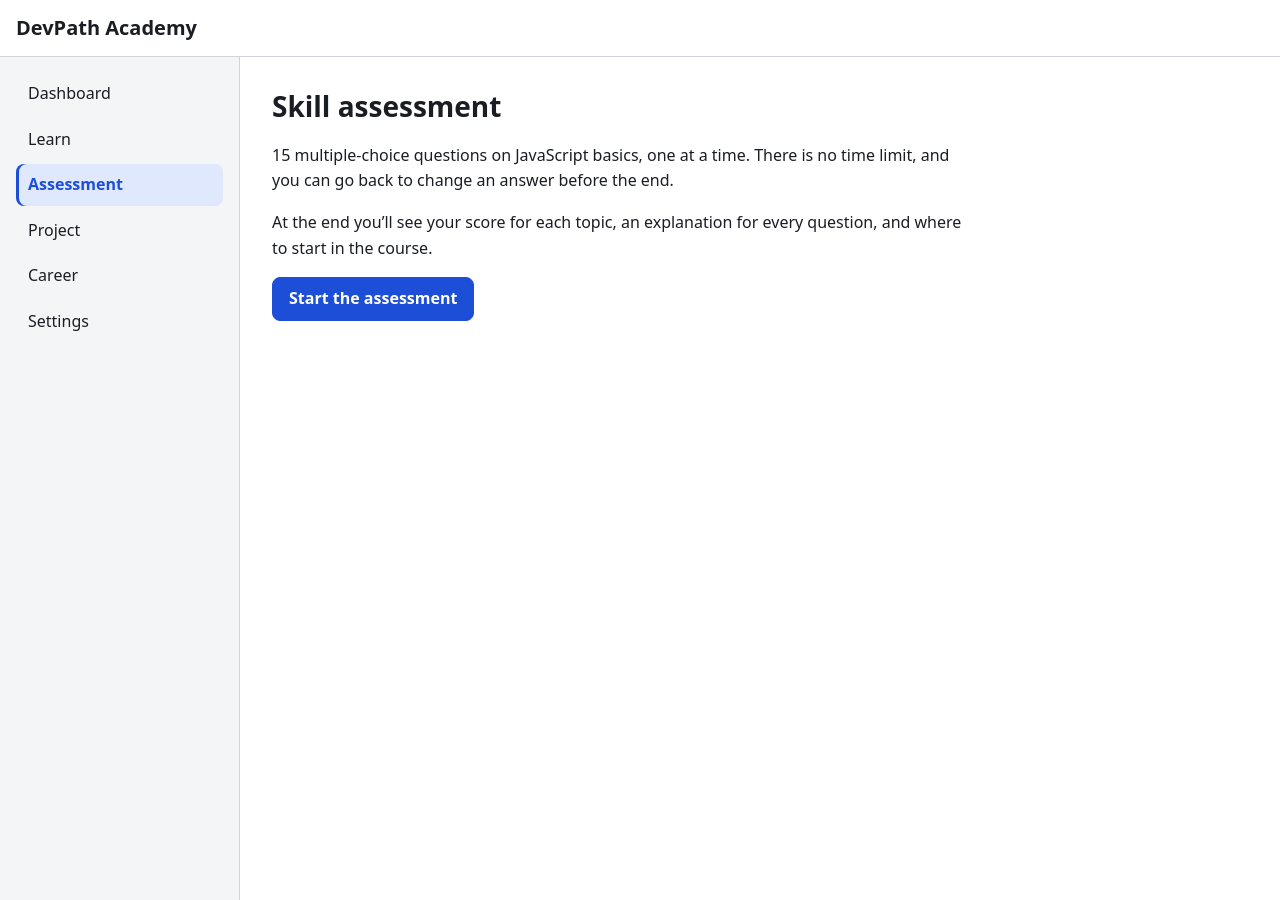
Scenario: skill assessment (/assessment) › goes back to the previous question with its answer still chosen
The image size is (1280, 900).
Step 1. Click the button "Start the assessment" → (373, 299), box left=272, top=277, right=474, bottom=321
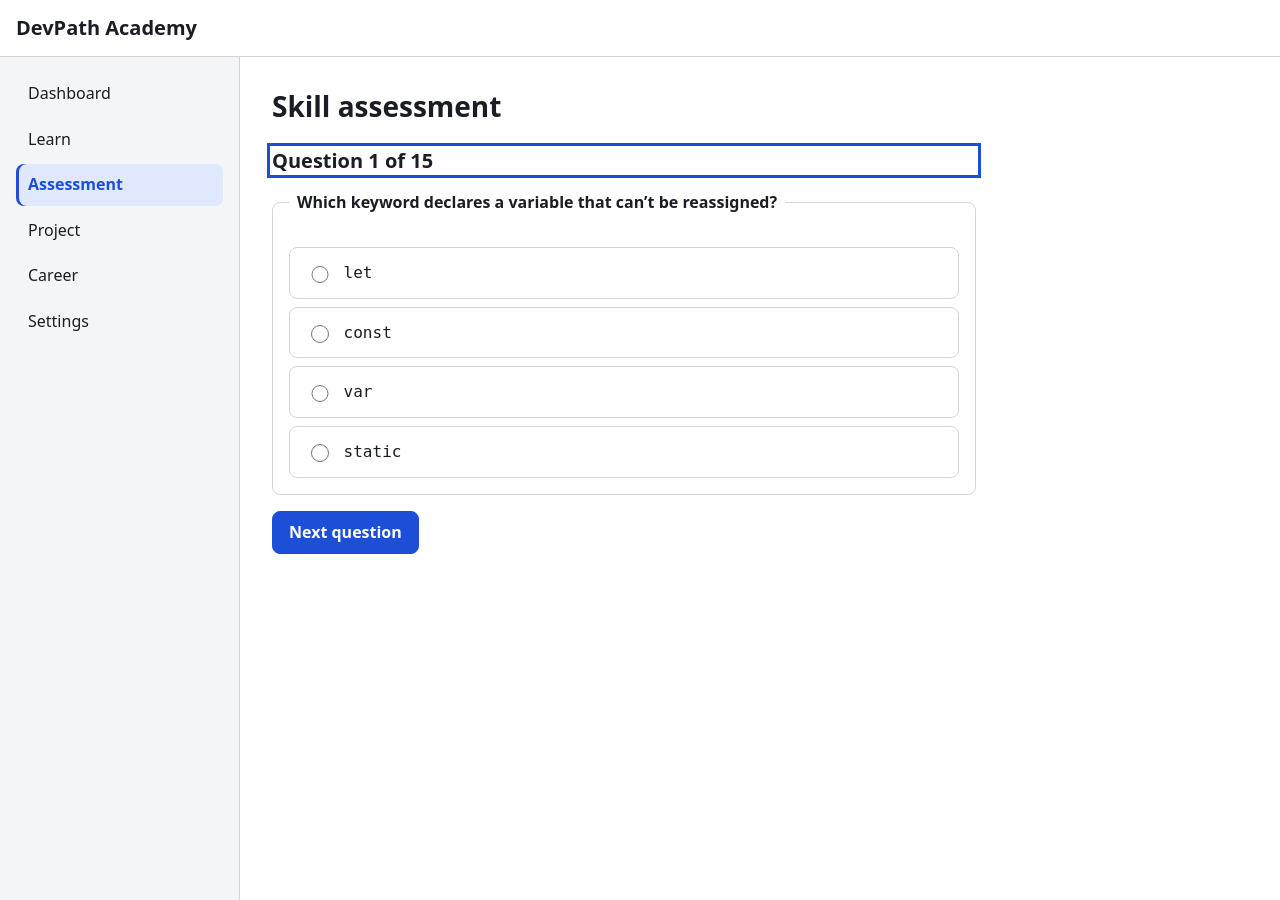
Step 2. Click the radio button labelled "var" → (320, 394), box left=311, top=385, right=329, bottom=402
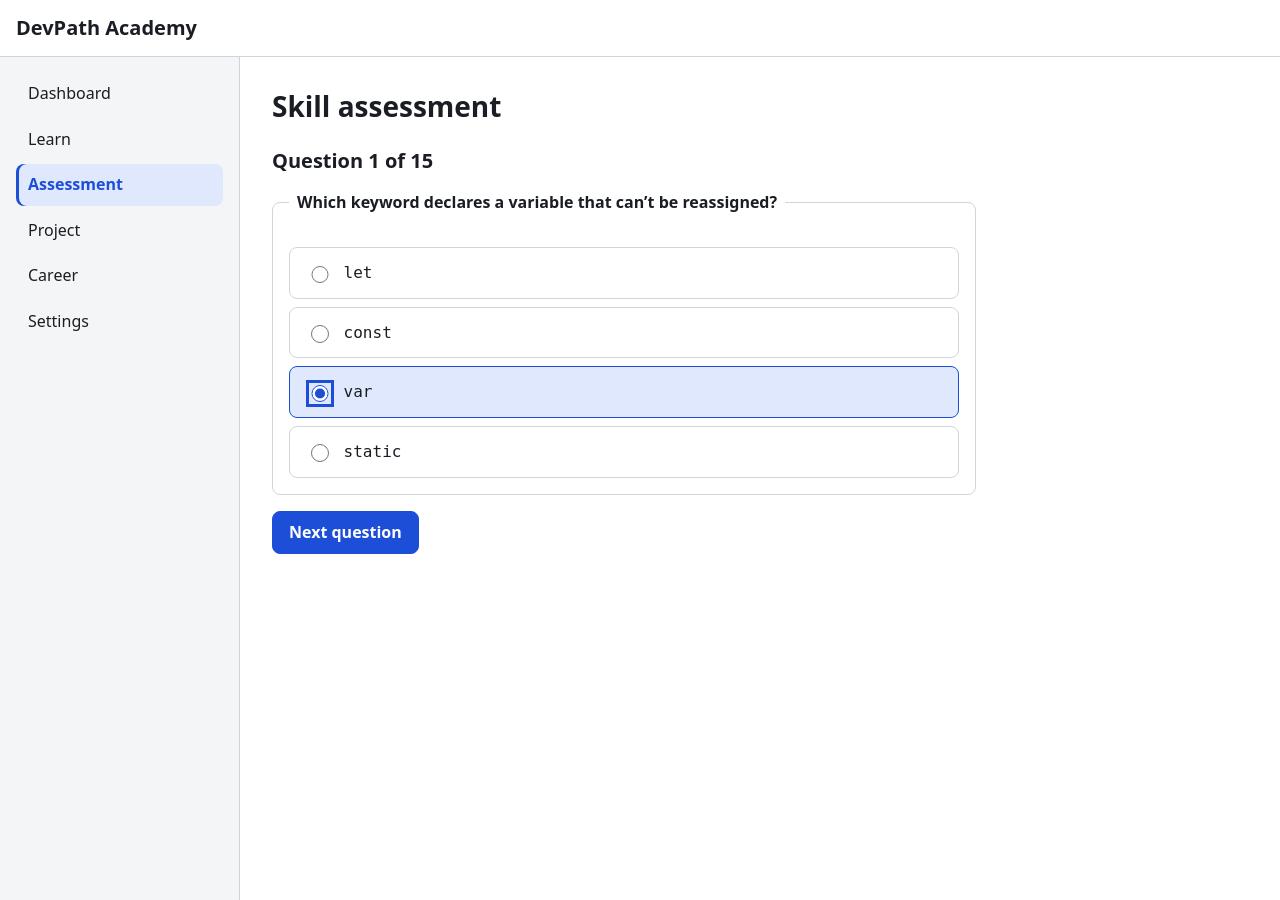
Step 3. Click the button "Next question" → (345, 532), box left=272, top=511, right=419, bottom=554
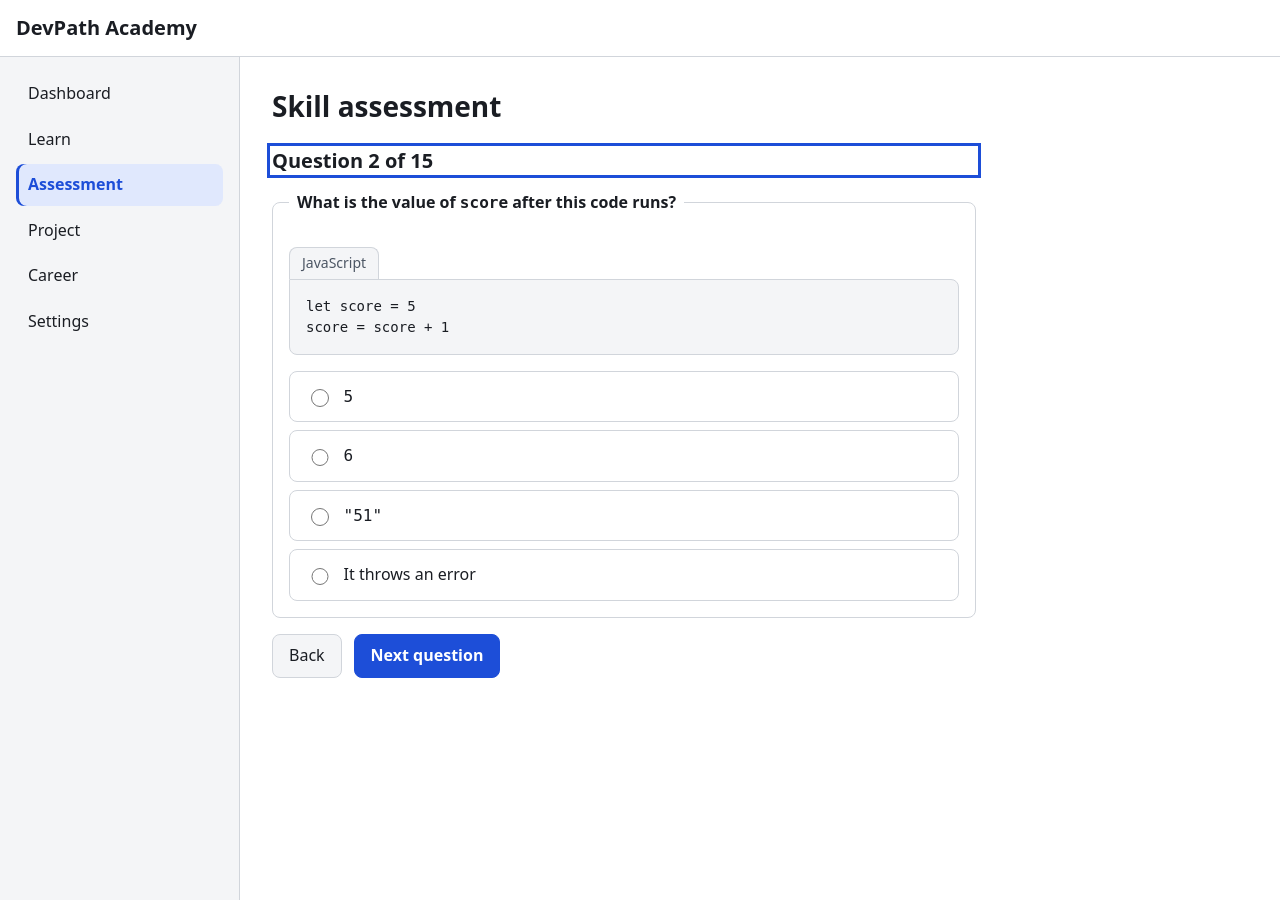
Step 4. Click the button "Back" → (307, 656), box left=272, top=634, right=342, bottom=678
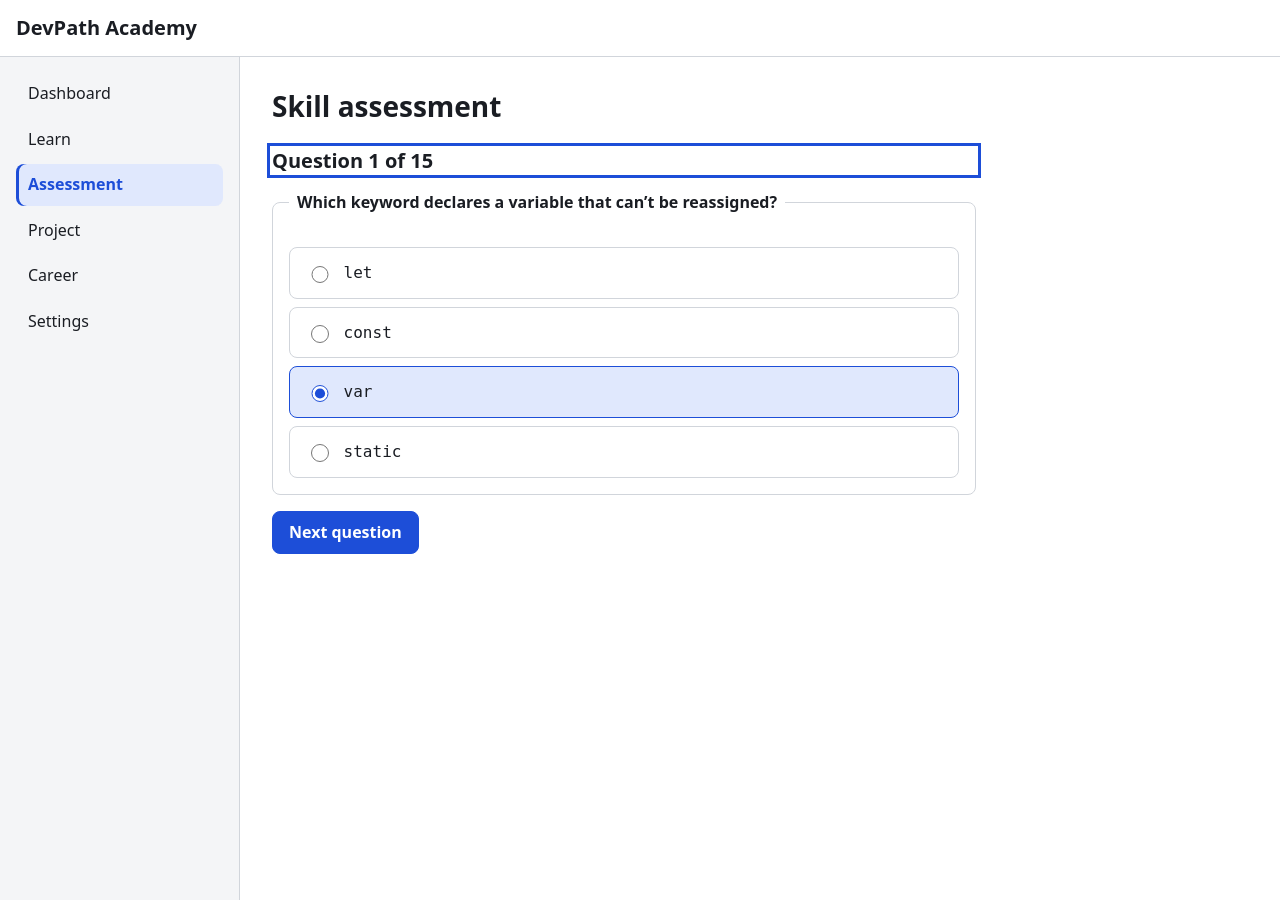
Expected: the radio button labelled "var" is checked, left=311, top=385, right=329, bottom=402
